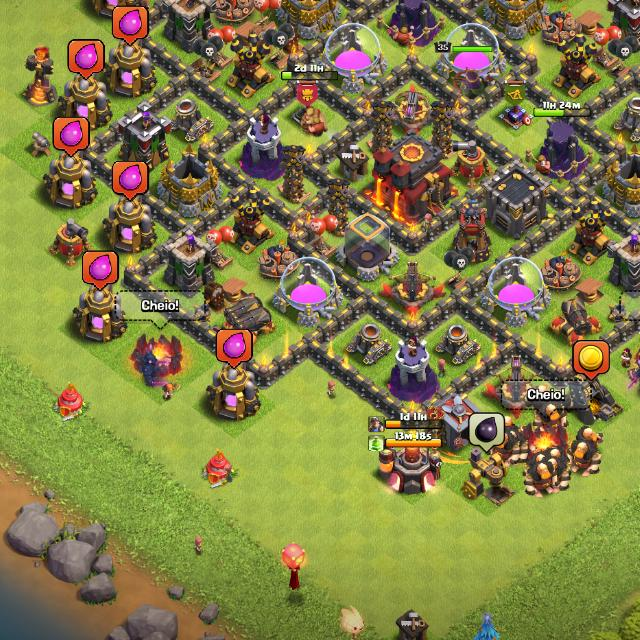ElixirNegro: (469, 412, 506, 452)
FullCoin: (572, 340, 610, 381)
FullElixir: (82, 251, 120, 293), (52, 116, 90, 157), (111, 160, 149, 201), (111, 6, 149, 46), (217, 328, 253, 370), (68, 40, 104, 80)
